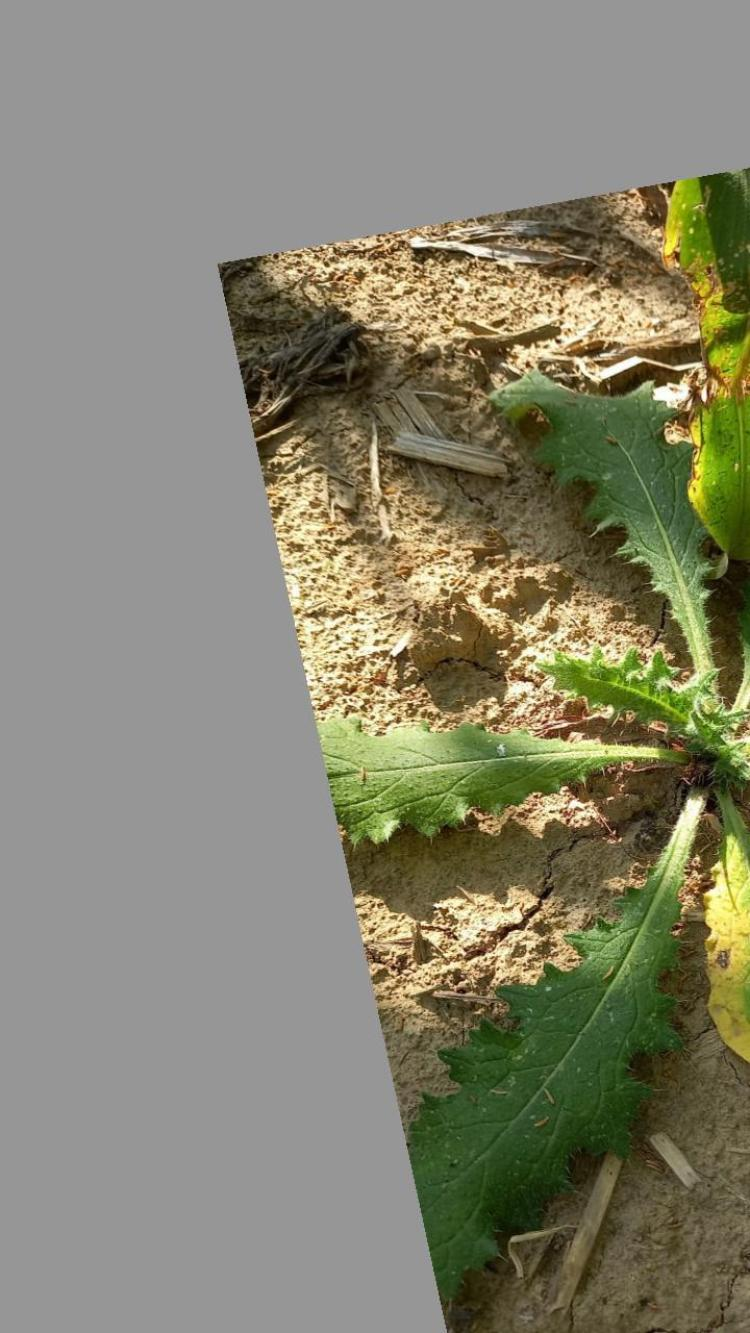osot: (316, 360, 750, 1332)
